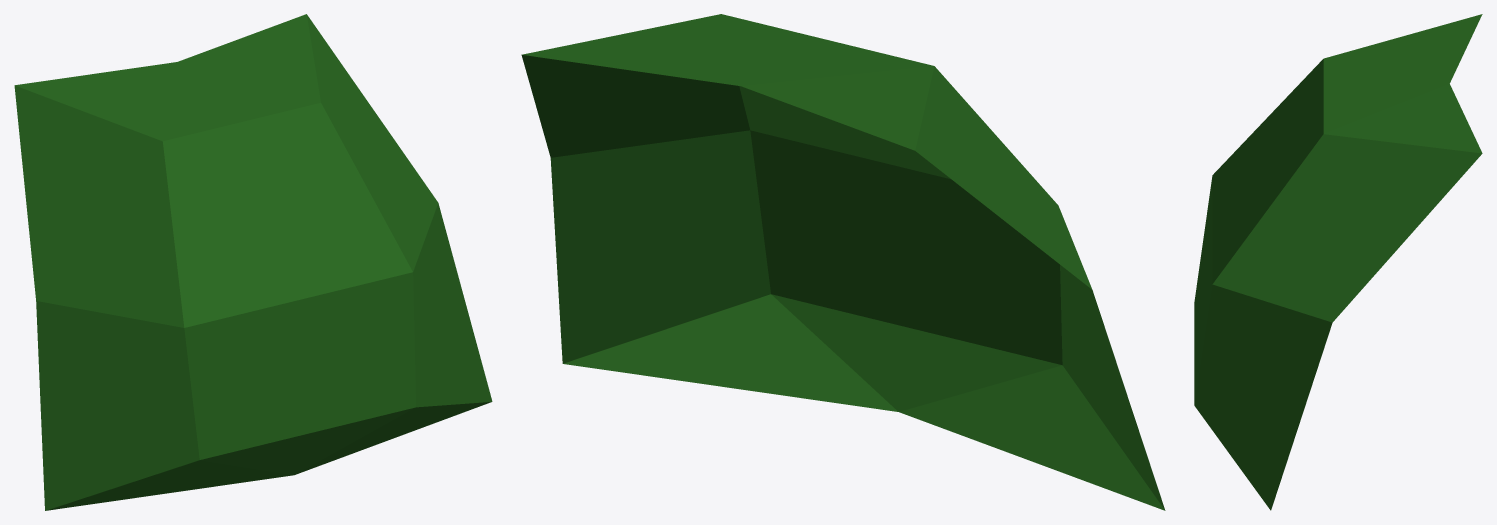
The model's file is Cannon_Housing.glb.
The picture shows the model from 3 angles, left to right: view 1: azimuth 30°, elevation 25°; view 2: azimuth 150°, elevation 25°; view 3: azimuth 270°, elevation 25°; orthographic projection. The views are drawn at different scales.
Parts seen in each view (by area): view 1: Cannon Housing; view 2: Cannon Housing; view 3: Cannon Housing.
Part boxes in pixels (x1,y1,x2,y2): Cannon Housing: [14, 14, 492, 510]; Cannon Housing: [521, 14, 1165, 510]; Cannon Housing: [1194, 14, 1482, 510].
Bounding box in the file's own units: 0.4398 × 0.3076 × 0.2508.
